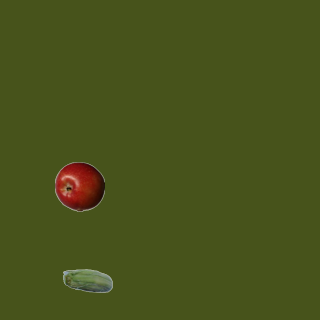Apple Braeburn: (54, 161, 104, 211)
Corn Husk: (62, 257, 112, 307)
